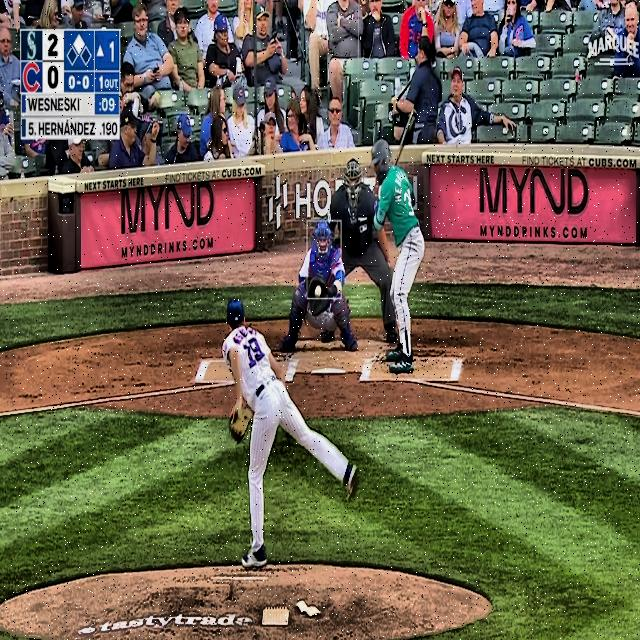baseball: (314, 285, 322, 298)
